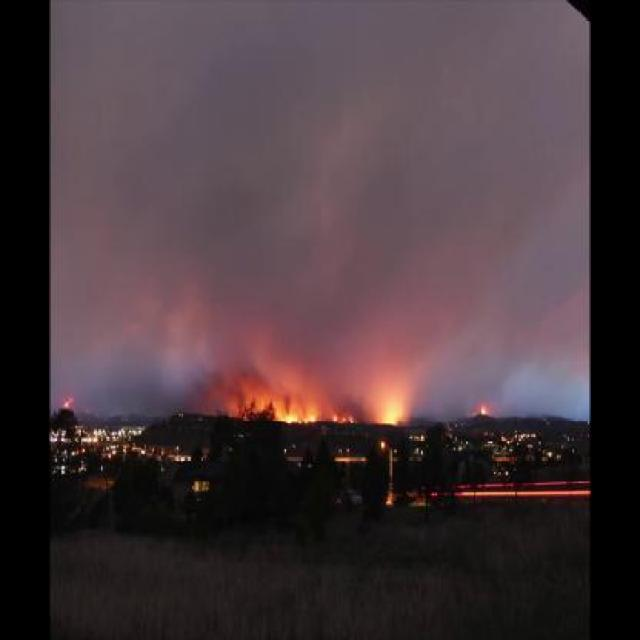Fire: (227, 392, 284, 421), (378, 400, 398, 426), (284, 414, 316, 426), (334, 412, 352, 425), (63, 395, 74, 408), (480, 406, 486, 414)
